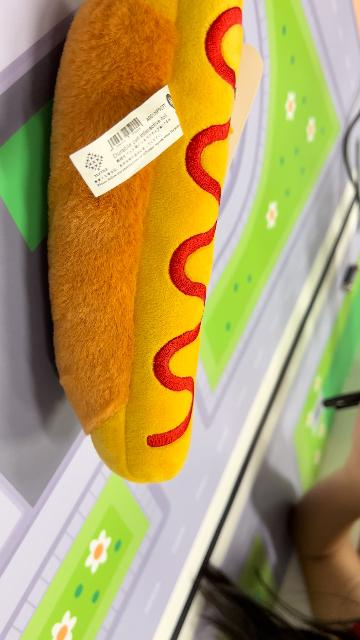hotdog: (46, 2, 246, 486)
